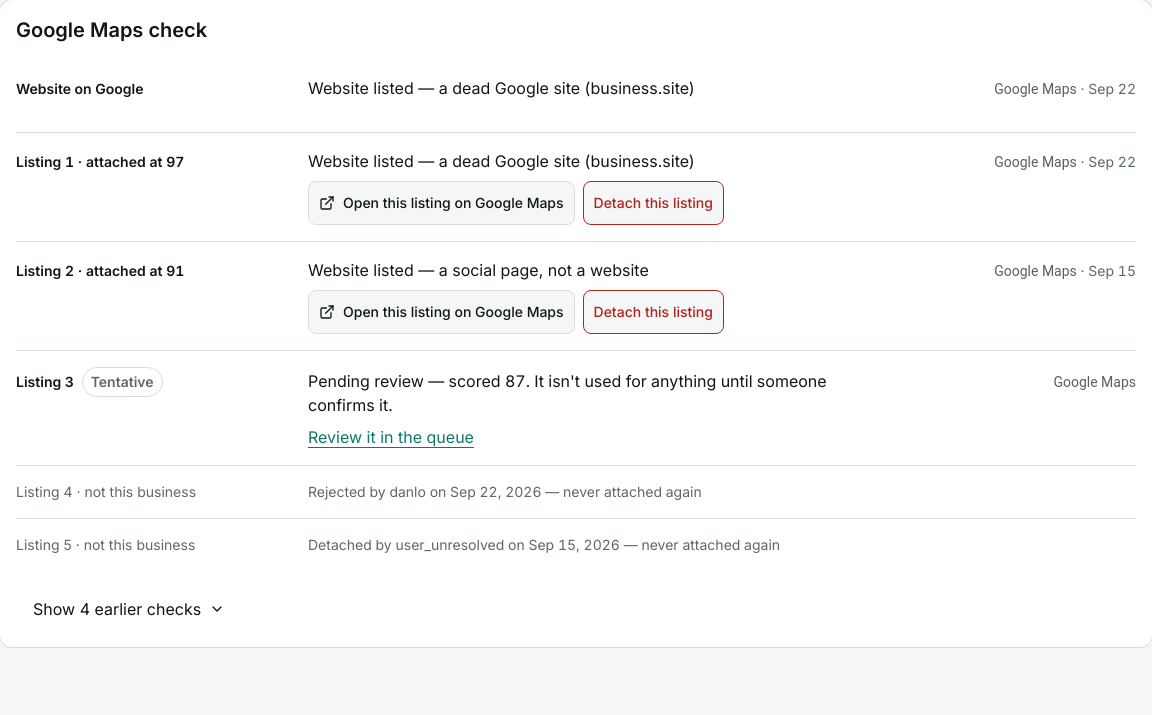
Test case: google maps check › the check history is collapsed and newest first
Click the button with test id "business-google-history-toggle" at {"x": 129, "y": 609}, box [16,587,242,631]
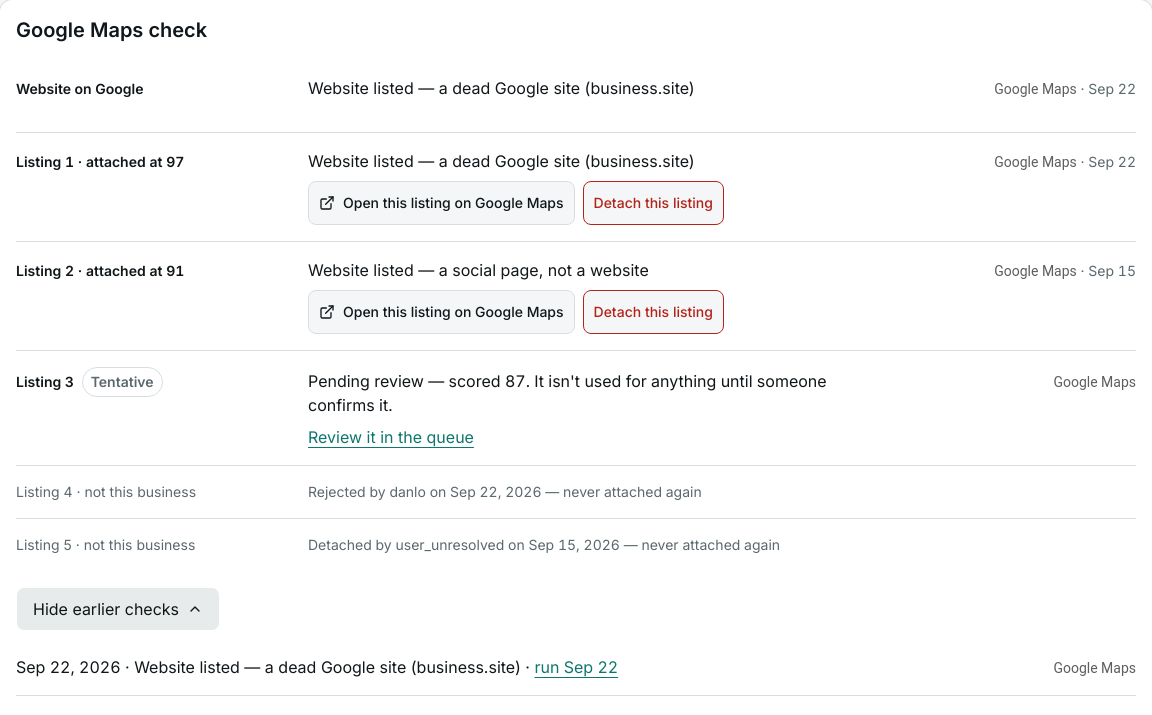
expect the button with test id "business-google-history-toggle" reads "Hide earlier checks": met, box [16,587,220,631]
expect the button with test id "business-google-history-toggle" is expanded: met, box [16,587,220,631]
expect the list item with test id "^business-google-history-row-" shows "Sep 22, 2026": met, box [16,657,120,677]
